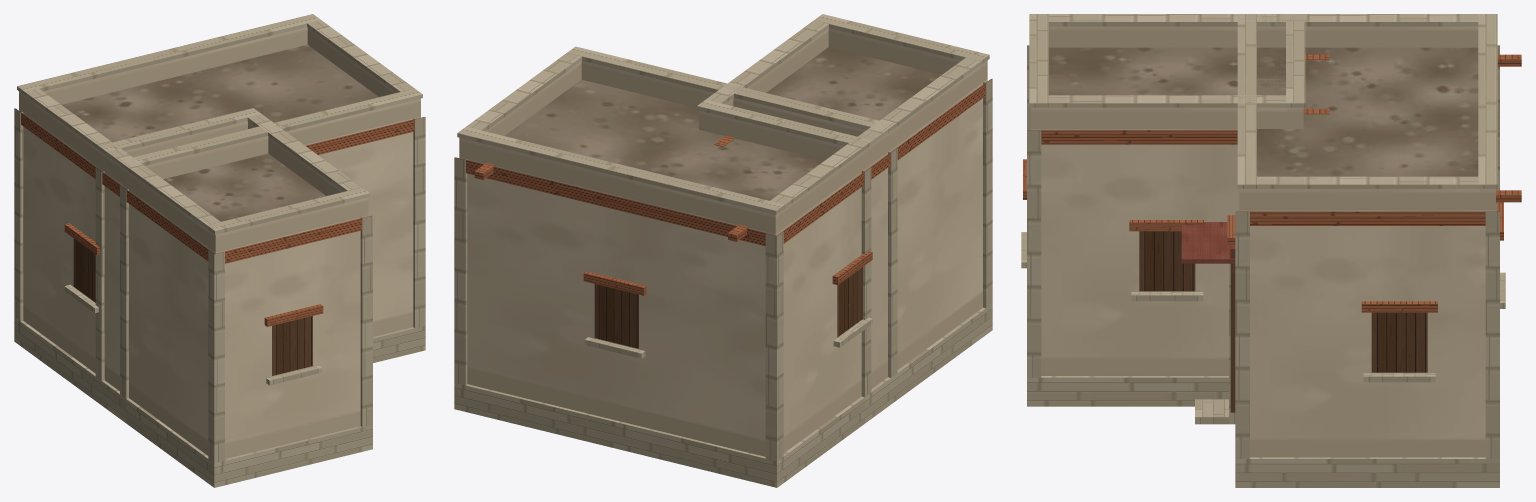
File: ae_sand_stone_medium_court_lod0.glb
The picture shows the model from 3 angles, left to right: view 1: azimuth 30°, elevation 25°; view 2: azimuth 150°, elevation 25°; view 3: azimuth 270°, elevation 25°; orthographic projection. The views are drawn at different scales.
Parts seen in each view (by area): view 1: ae_sand_stone_medium_court_lod0; view 2: ae_sand_stone_medium_court_lod0; view 3: ae_sand_stone_medium_court_lod0.
Boxes of the visible parts, x1,y1,x2,y2 form: ae_sand_stone_medium_court_lod0: (14,14,425,487); ae_sand_stone_medium_court_lod0: (454,14,992,487); ae_sand_stone_medium_court_lod0: (1021,14,1521,487).
Size of the model in its own units: 5.24 by 4.16 by 6.24.
1 material, 1 textured.
